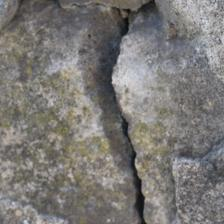Crack: (100, 9, 156, 223)
